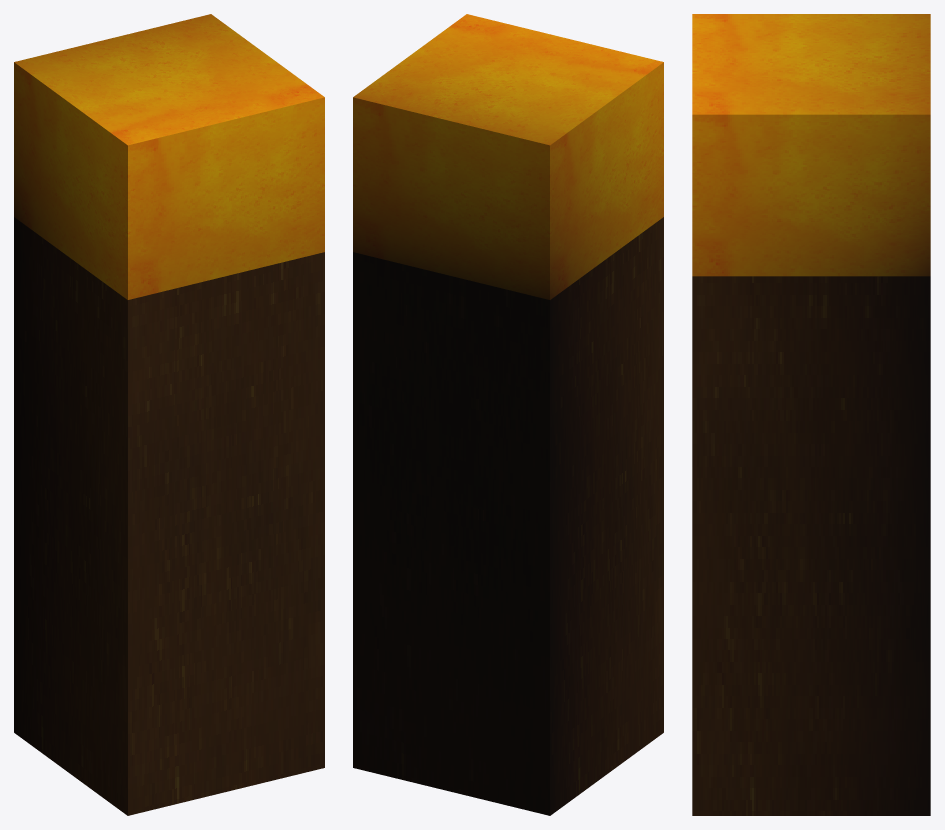
The model's file is torch.glb.
The picture shows the model from 3 angles, left to right: view 1: azimuth 30°, elevation 25°; view 2: azimuth 150°, elevation 25°; view 3: azimuth 270°, elevation 25°; orthographic projection. The views are drawn at different scales.
Visible parts, largest first — view 1: Base, Fire; view 2: Base, Fire; view 3: Base, Fire.
Boxes of the visible parts, left/top/right/bottom form: Base: left=14, top=217, right=324, bottom=815; Fire: left=14, top=14, right=324, bottom=299; Base: left=353, top=217, right=663, bottom=815; Fire: left=353, top=14, right=663, bottom=299; Base: left=692, top=276, right=930, bottom=815; Fire: left=692, top=14, right=930, bottom=276.
Size of the model in its own units: 0.2 by 0.65 by 0.2.
Materials: 1 (1 with a texture image).
